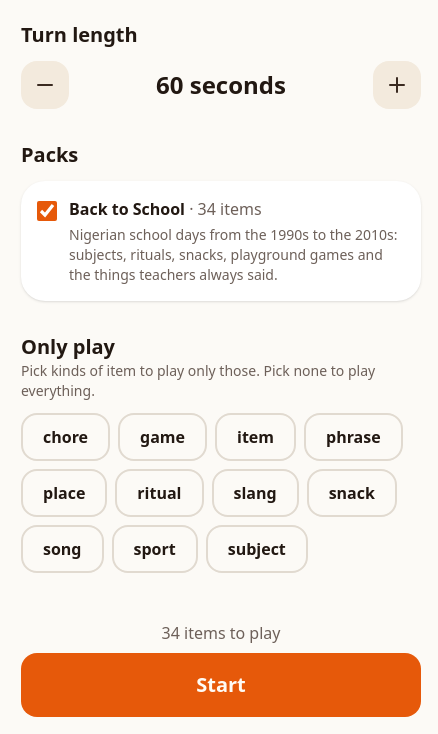
Test: setup screen › counts the items a tag leaves, and needs at least one pack
(page scrolled)
Click the button "snack": coordinates (352, 493) [307,469,397,517]
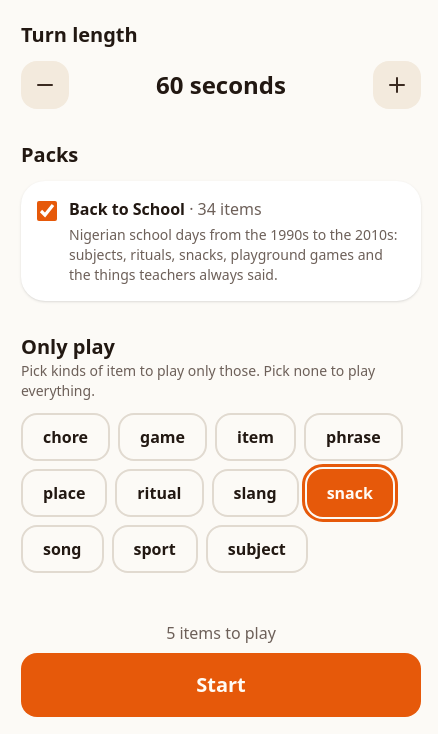
Expected: the text "5 items to play" is shown, [166,622,276,644]
Click the button "song": coordinates (62, 549) [21,525,104,573]
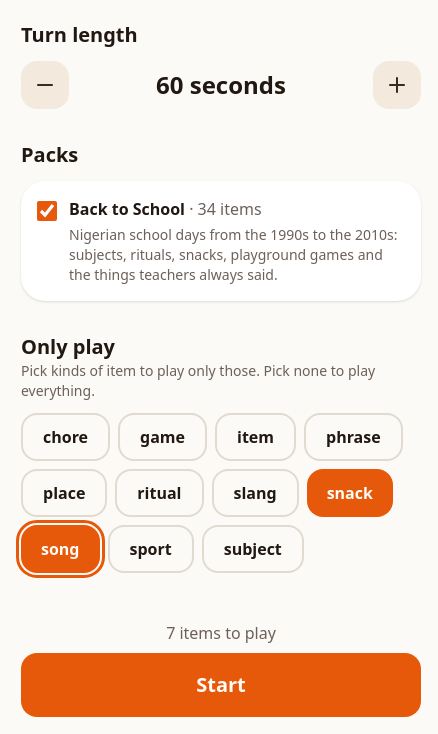
Expected: the text "7 items to play" is shown, [166,622,276,644]
Click the checkbox labelled "Back to School": coordinates (47, 211) [37,201,57,221]
(page scrolled)
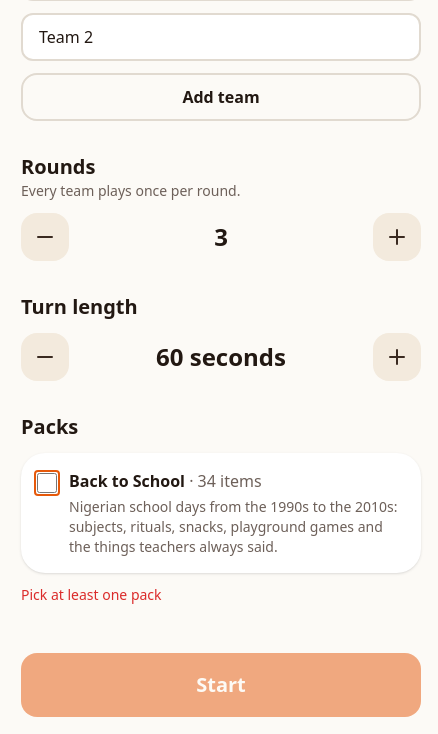
Expected: the text "Pick at least one pack" is shown, [21,585,162,604]
Expected: the button "Start" is disabled, [21,653,421,717]
